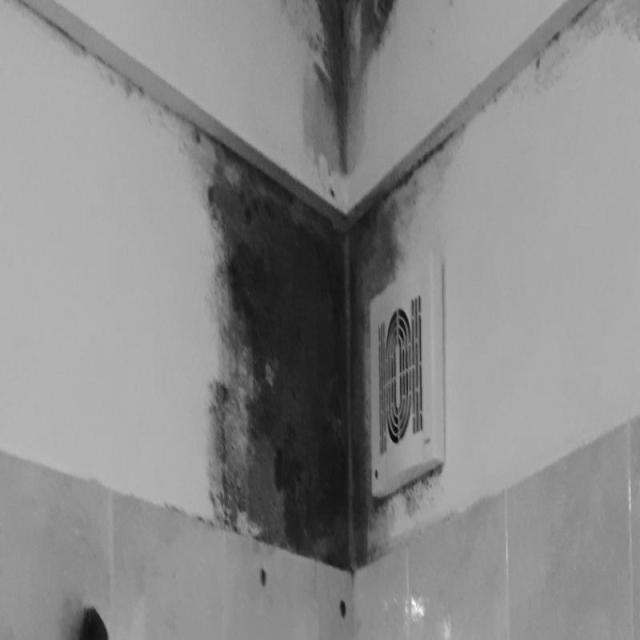stain marks: (163, 0, 492, 585)
